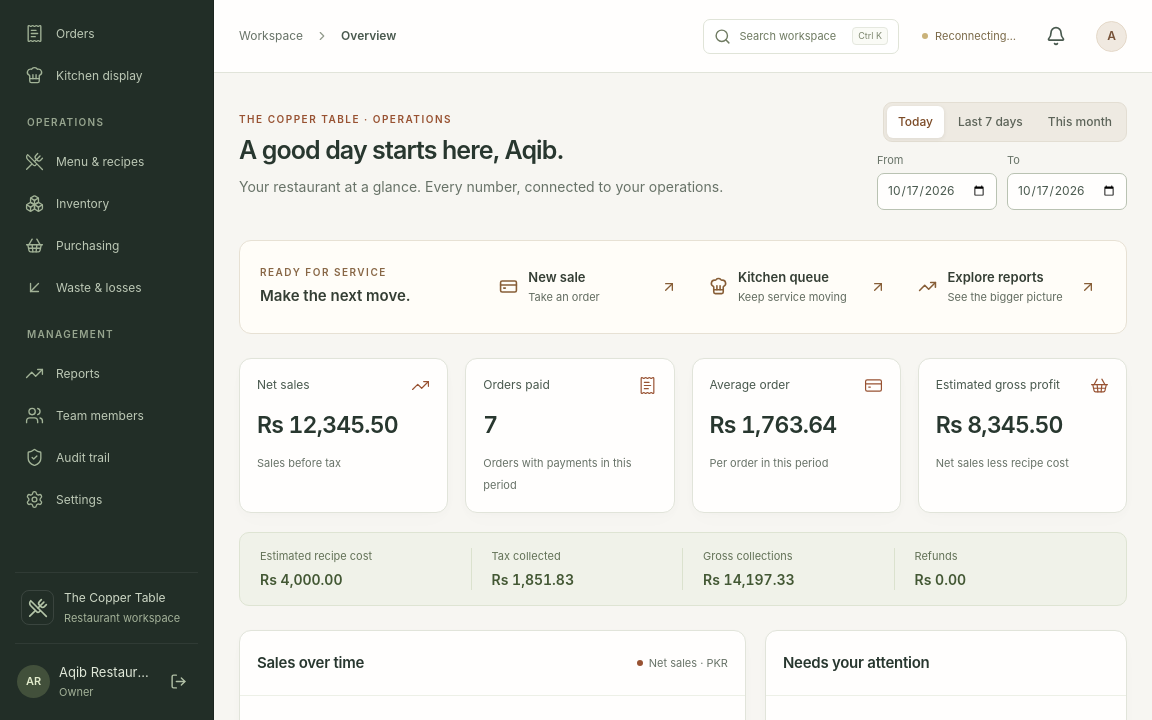
authenticated restaurant workspace › clears authenticated records and obtains a fresh anonymous session on sign out
The image size is (1152, 720).
(page scrolled)
Check: the heading "A good day starts here, Aqib." is shown, box x1=239 y1=135 x2=564 y2=165
Click the button named "Sign out". click: {"x": 178, "y": 682}
box: x1=160 y1=664 x2=196 y2=700
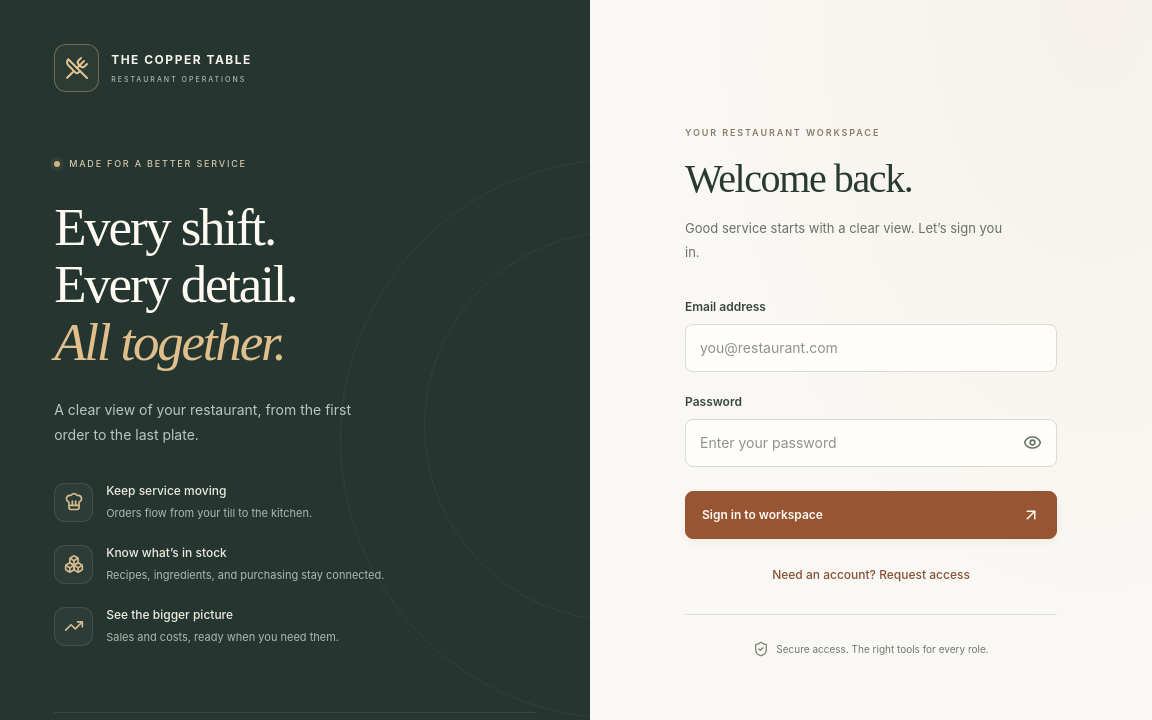
Check: the heading "Welcome back." is shown, box x1=685 y1=156 x2=912 y2=201
Check: the text "Net sales" is gone
